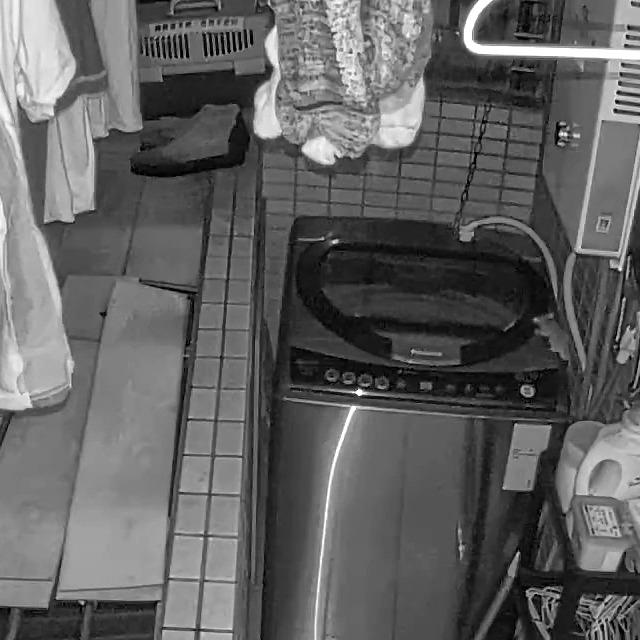rat: (532, 309, 578, 374)
